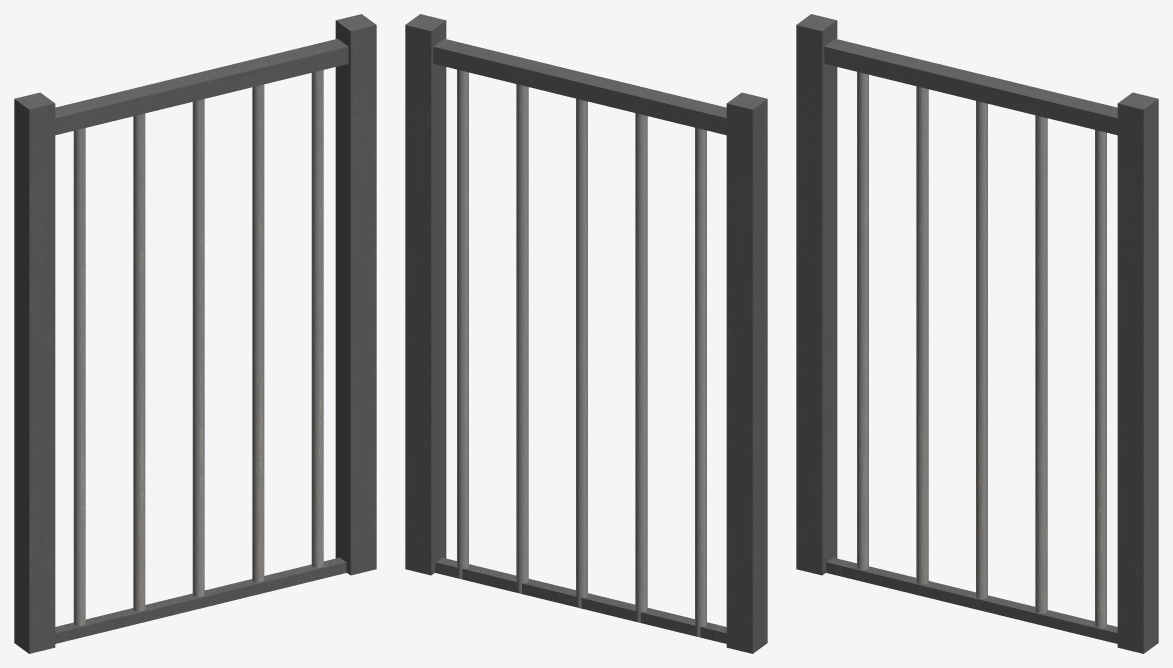
File: Prop_SteelFence.FBX
3 views of the same model, side by side, from view 1: azimuth 30°, elevation 25°; view 2: azimuth 150°, elevation 25°; view 3: azimuth 330°, elevation 25° (orthographic).
Visible parts, largest first — view 1: Box001; view 2: Box001; view 3: Box001.
Boxes of the visible parts, box(x1,y1,x2,y2) form: Box001: box(14, 14, 376, 653); Box001: box(405, 14, 767, 653); Box001: box(796, 14, 1158, 653).
Size of the model in its own units: 134 by 200 by 10.
Materials: 1 (1 with a texture image).
